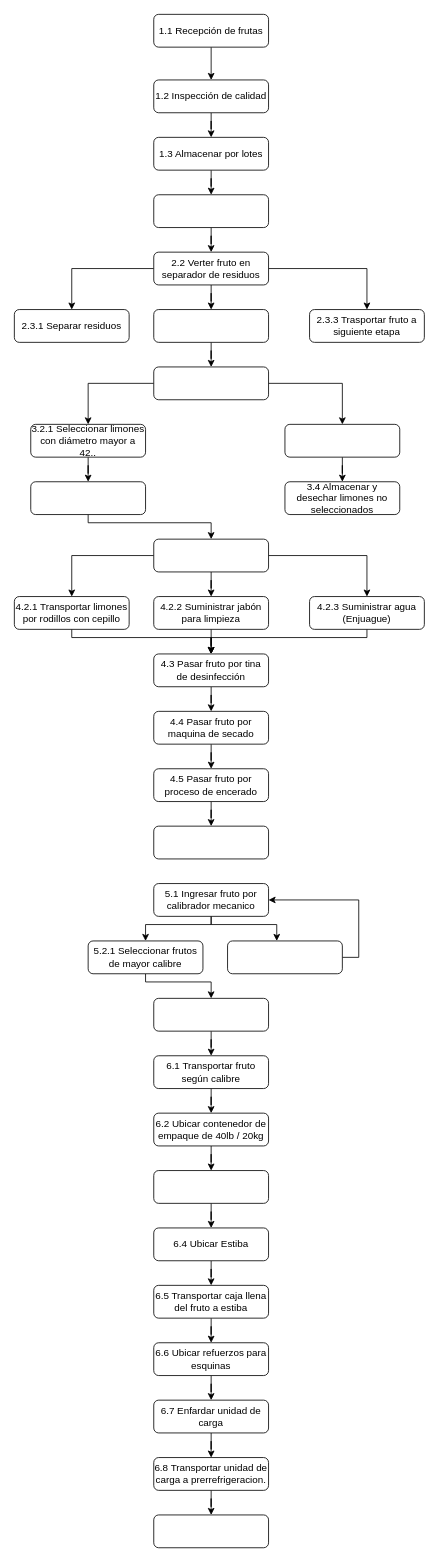
Image size: 439x1563. Some labels were removed from this diagram. The box of each missing label's shape, as (x1, y1, x2, y2) in pixels:
2.1 Ingresas canasta linea de proceso: (153, 194, 269, 228)
2.3.2 Extracción de frutos con demasiada maduración (operario): (153, 309, 269, 342)
3.1 Ingresar frutos a separador mecánico: (153, 366, 269, 400)
3.2.2 Depositar limones no seleccionados en banda transportadora: (284, 424, 400, 457)
3.3 Transportar fruto seleccionado a siguiente etapa: (30, 481, 146, 515)
4.1 Ingresar frutos a etapa de lavado y desinfección: (153, 538, 269, 572)
4.6 Transportar fruto a etapa de clasificacion: (153, 825, 269, 859)
5.2.2 Transportar fruto no seleccionado: (227, 940, 342, 974)
5.3 Trasportar fruto a etapa de empacado: (153, 998, 269, 1031)
6.3 Llenar contenedor segun calibre (250, 230, 200, 175, 150, 110): (153, 1170, 269, 1203)
6.9 Transportar unidad de carga a camión de despacho: (153, 1514, 269, 1548)
